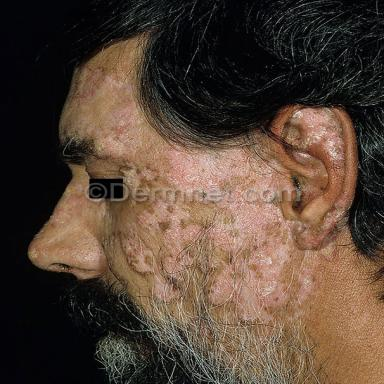Lupus-Erythematosus-Chronicus-Discoides: (119, 202, 310, 324), (172, 149, 272, 191), (281, 106, 346, 162), (313, 209, 350, 261), (110, 104, 140, 141), (72, 68, 104, 101), (118, 166, 157, 188)
